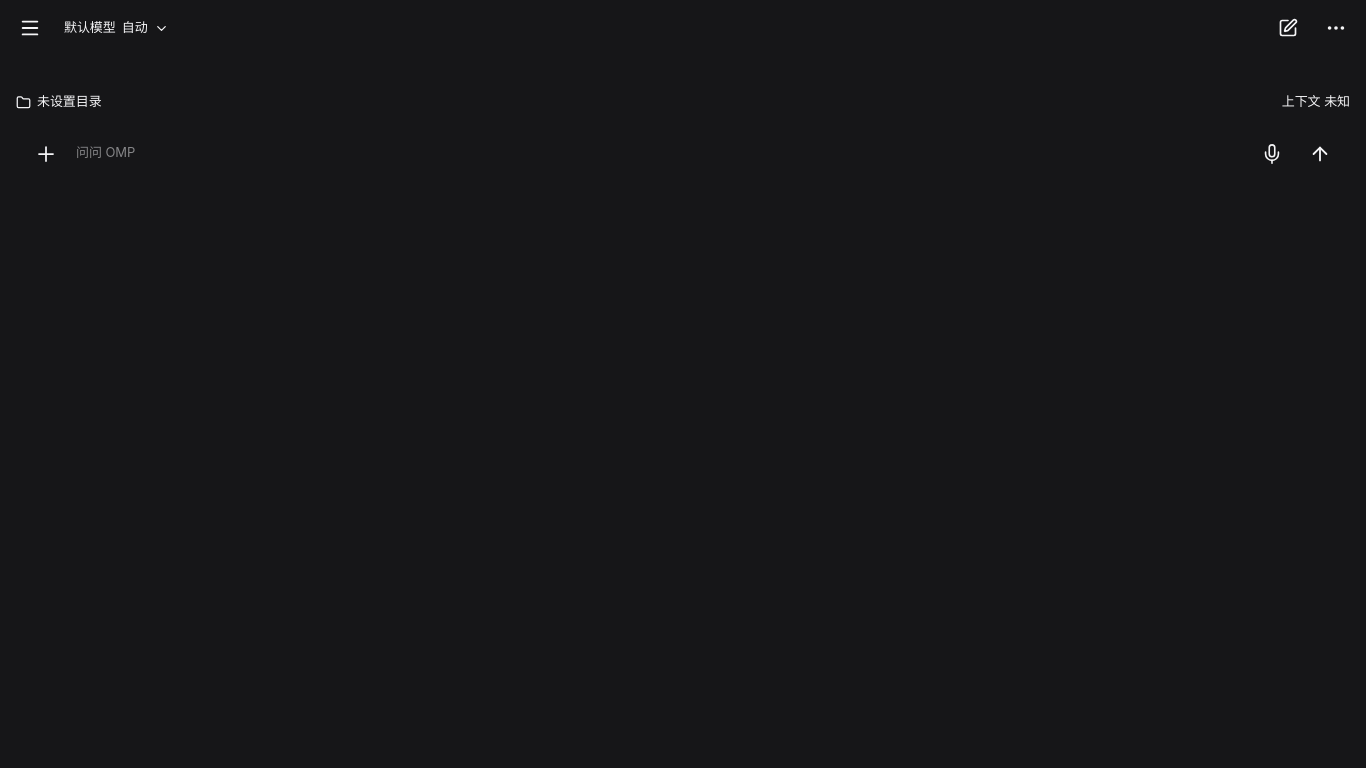
Test case: Top Bar (Change 1) › renders Menu (left), model+thinking pill, 新建对话, and tool menu
The width and height of the screenshot is (1366, 768).
Expected: the button named "菜单" is shown, [8,6,52,50]
Expected: the button named "新建对话" is shown, [1266,6,1310,50]
# Tapping the pill opens the model/thinking bottom sheet picker
Click the button with aria-label "选择模型和思考等级". click: (116, 28)
box: [56,6,177,50]
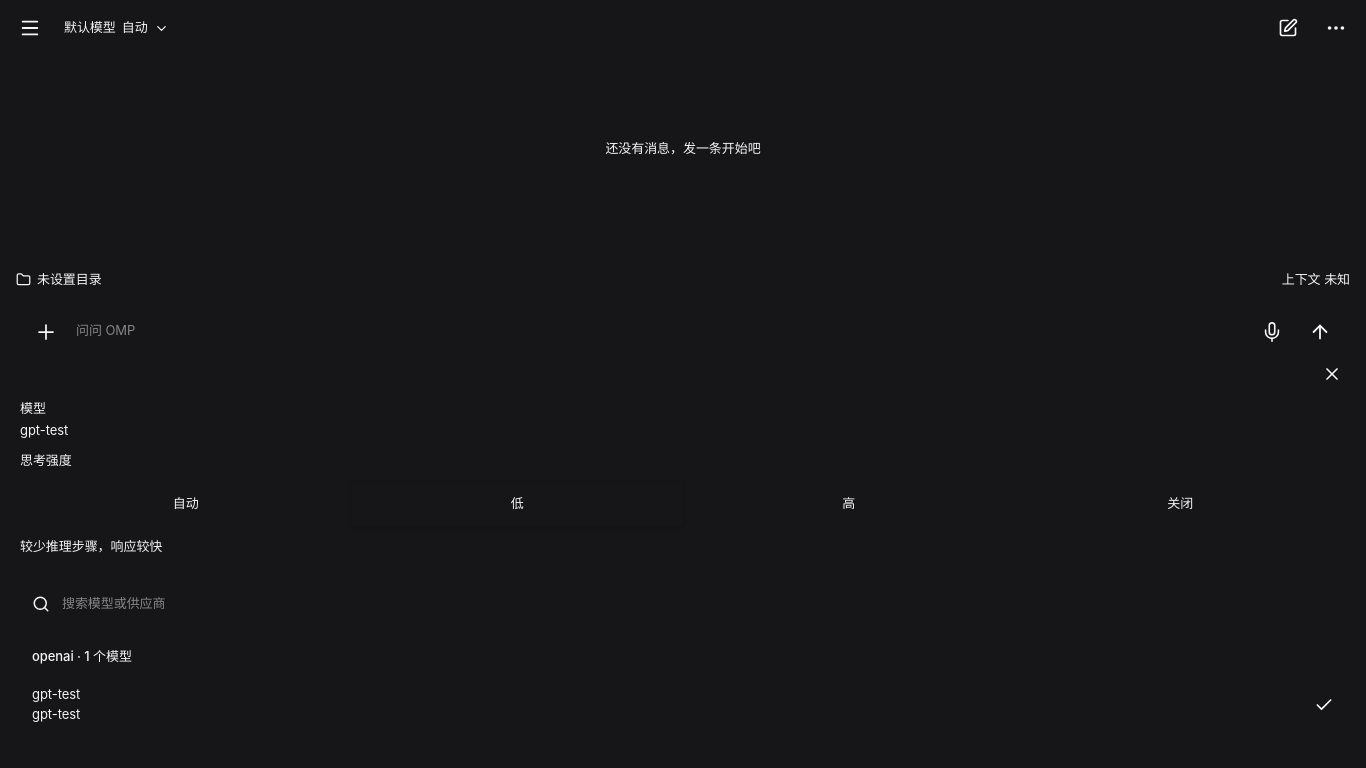
Expected: the dialog "模型" is shown, [0,335,1365,767]
Expected: the element named "思考强度" is shown, [16,478,1350,530]
Expected: the 1st text "gpt-test" is shown, [20,422,68,438]
